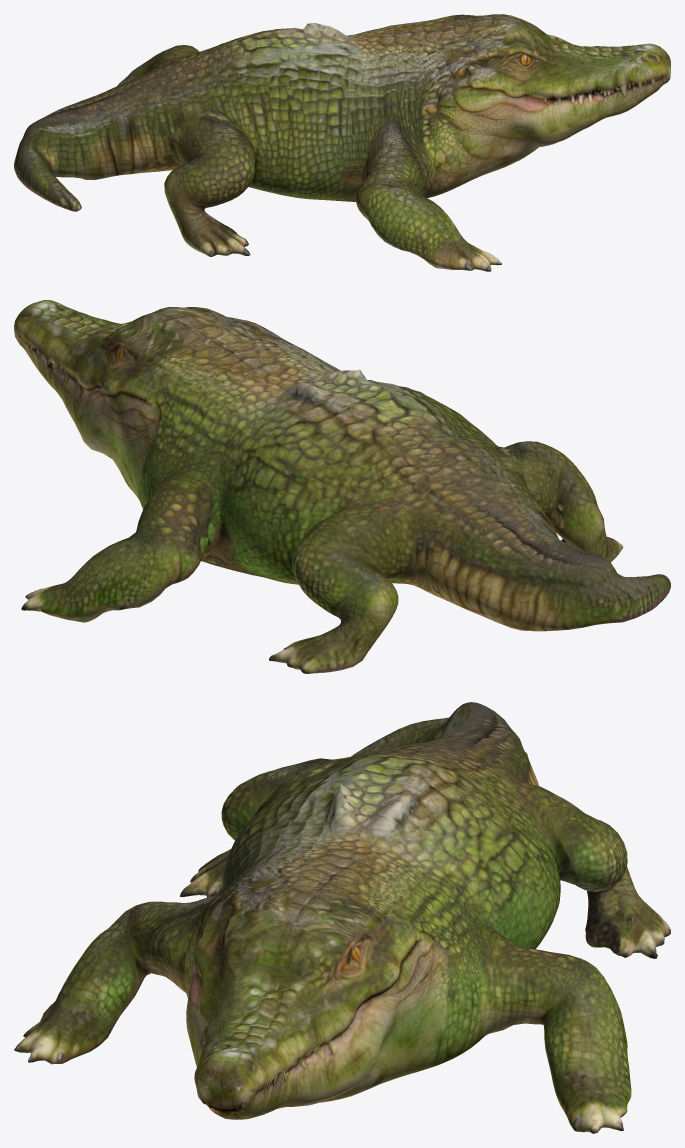
The picture shows the model from 3 angles, top to bottom: view 1: azimuth 30°, elevation 25°; view 2: azimuth 150°, elevation 25°; view 3: azimuth 270°, elevation 25°; orthographic projection. The views are drawn at different scales.
Parts seen in each view (by area): view 1: Mesh0; view 2: Mesh0; view 3: Mesh0.
Part boxes in pixels (<box>): Mesh0: <box>14,14,670,271</box>; Mesh0: <box>14,300,670,673</box>; Mesh0: <box>14,702,670,1133</box>.
Size of the model in its own units: 1.19 by 0.3281 by 0.8283.
1 material, 1 textured.
